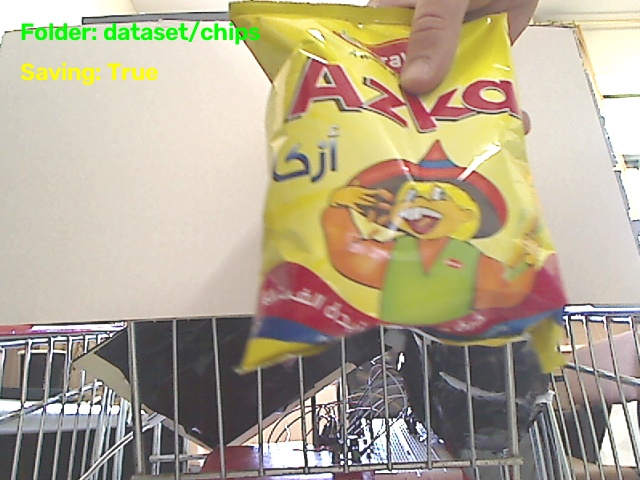chips: (231, 2, 565, 370)
